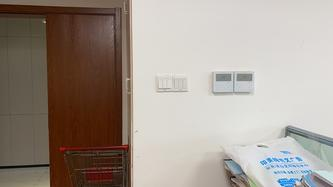switch: (158, 79, 162, 89), (164, 79, 167, 89), (169, 79, 172, 88), (181, 80, 183, 91), (176, 80, 178, 89), (186, 81, 188, 89)
